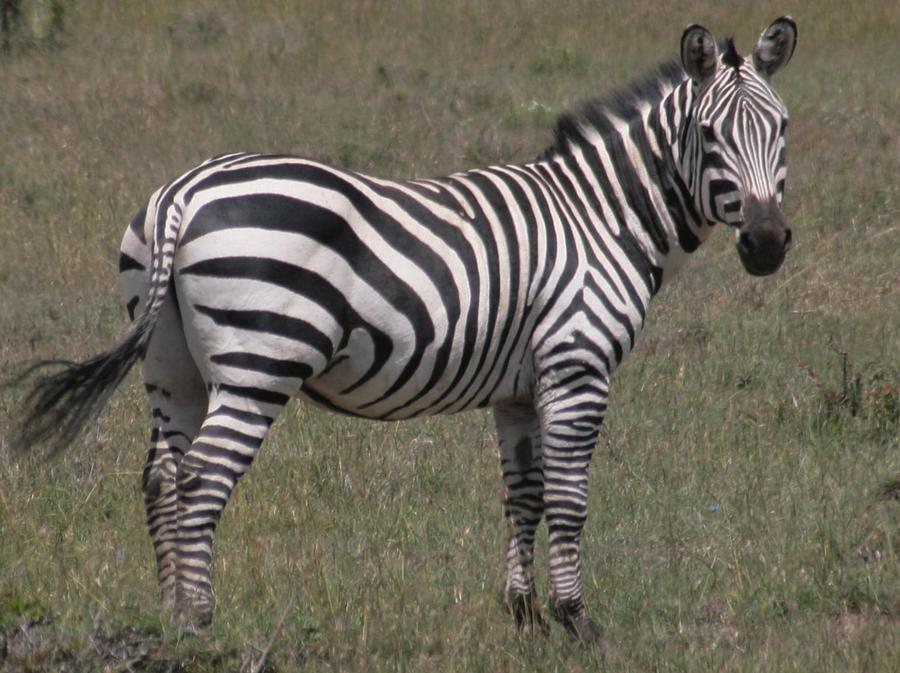zebra_plains: (171, 114, 670, 449)
